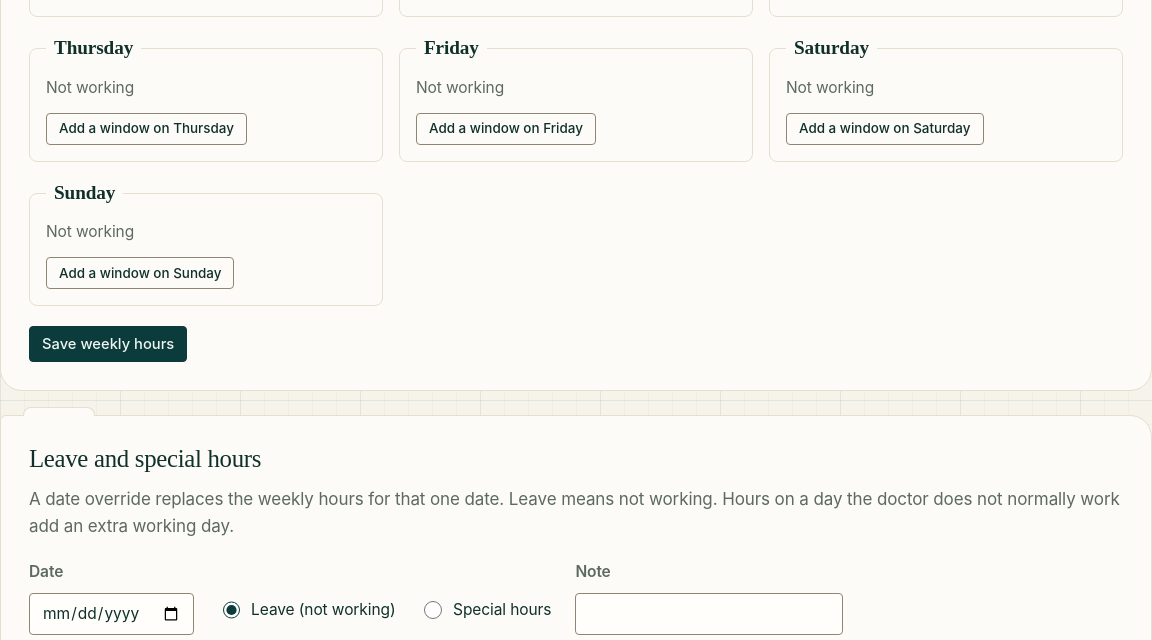
doctors and availability › changes nothing when the dialog is dismissed
(page scrolled)
Click the button "Save weekly hours" at coordinates (108, 344), box [29,326,187,362]
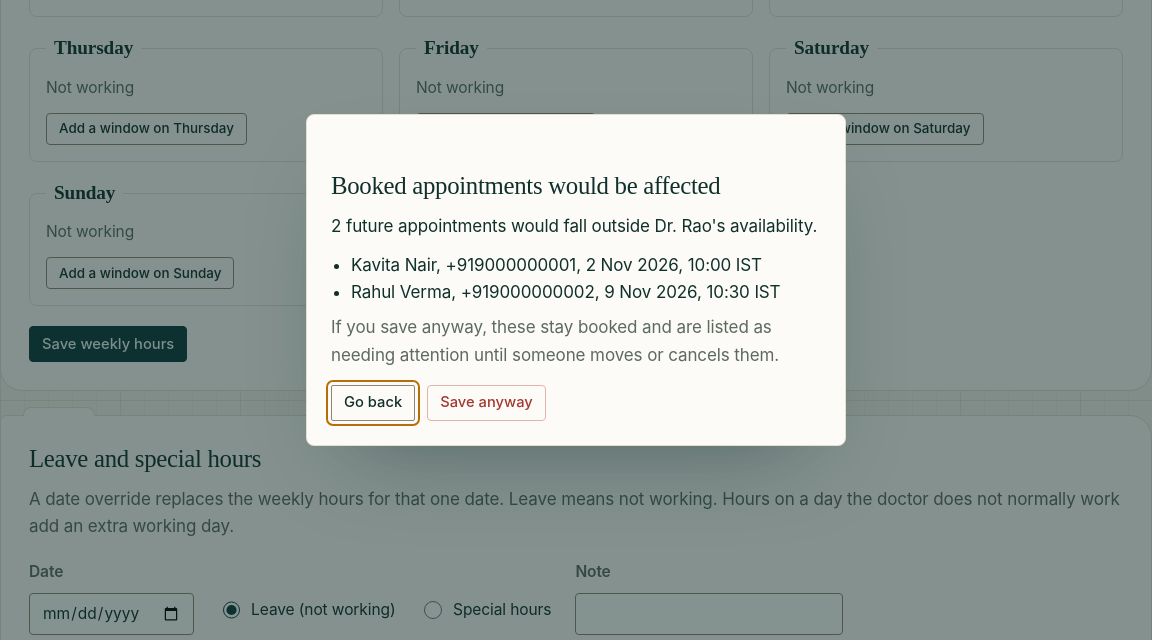
Click the button "Go back" at coordinates (373, 403), box [331,385,415,421]
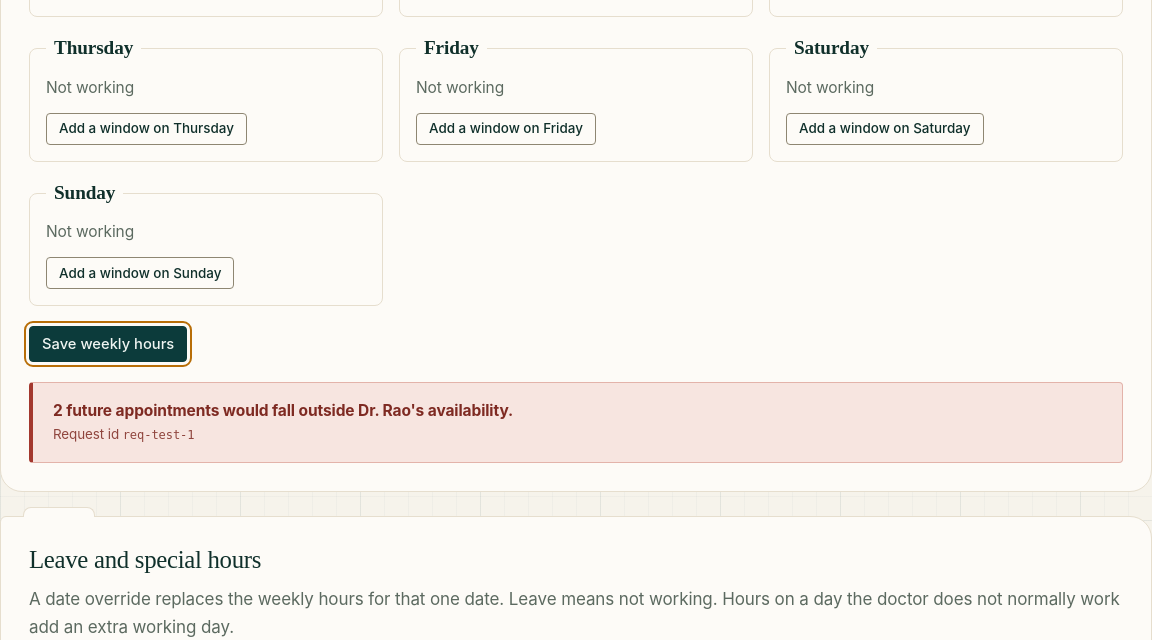
Expected: the dialog is gone
